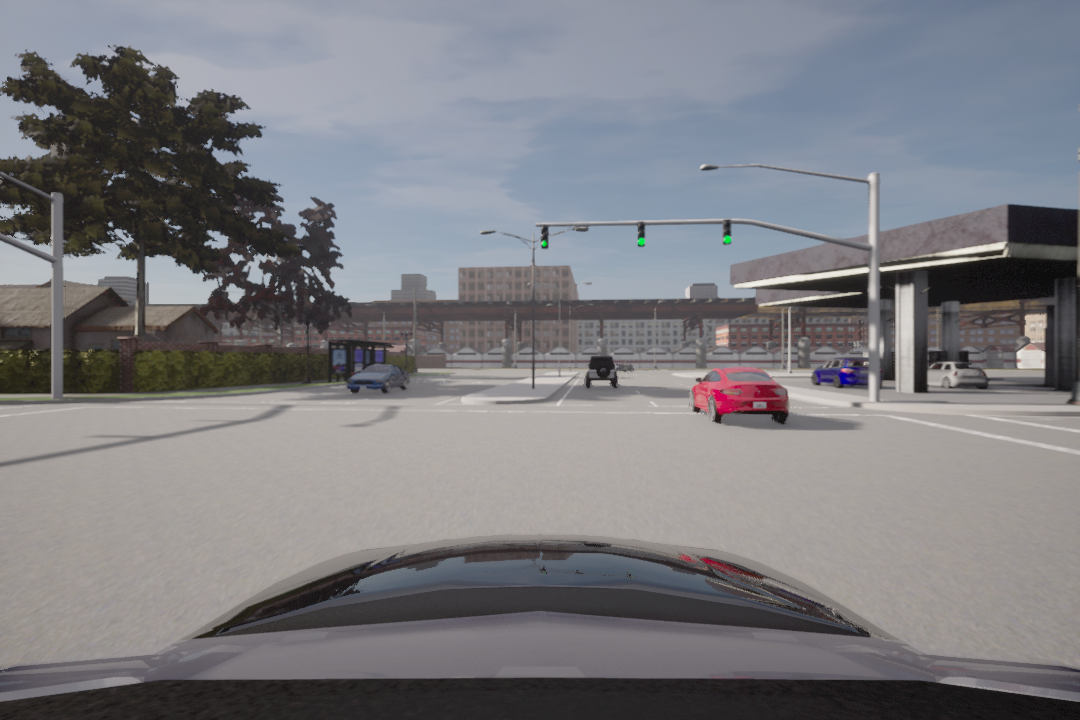TrafficLight: (721, 219, 734, 247), (636, 221, 647, 250), (539, 224, 550, 250)
